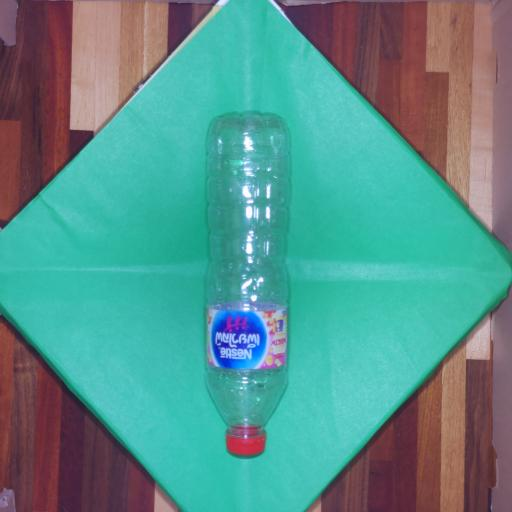bottle: (196, 97, 302, 471)
